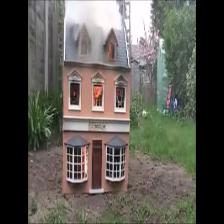fire: (93, 84, 105, 99)
